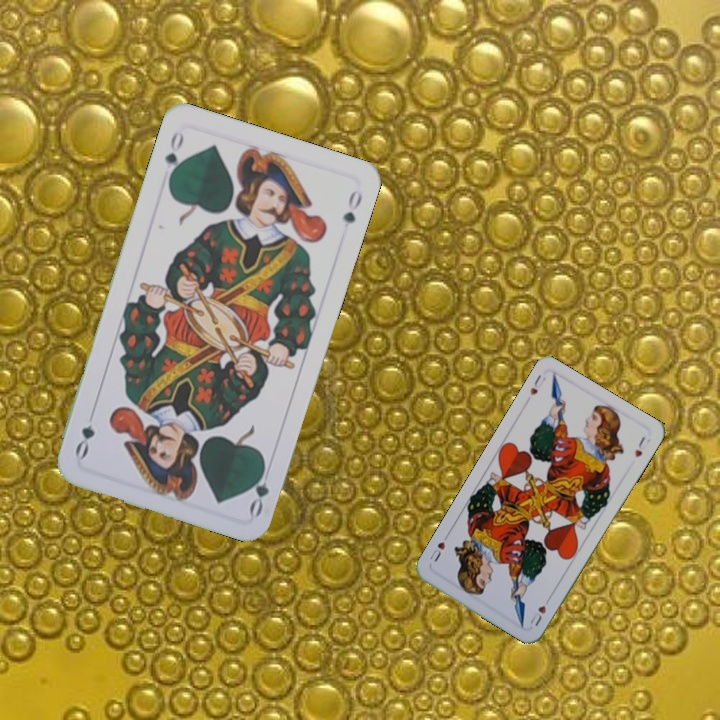GO: (245, 459, 272, 519), (160, 126, 187, 185)
HU: (525, 592, 554, 629), (526, 371, 548, 398)
